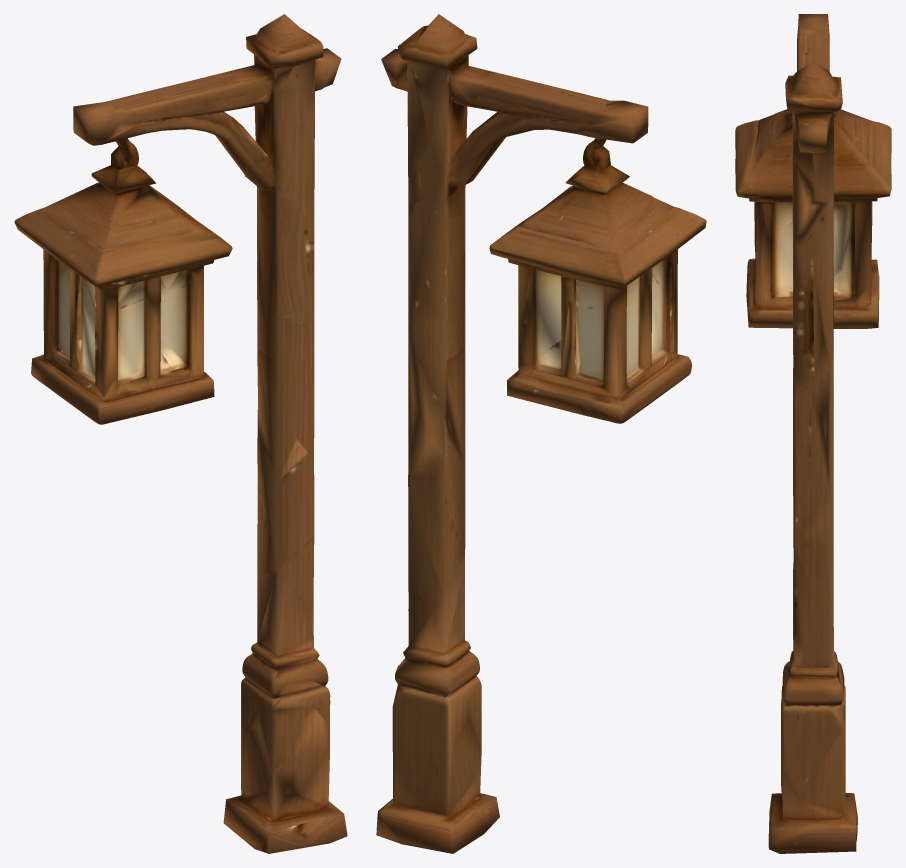
File: wood_lantern_post.glb
The picture shows the model from 3 angles, left to right: view 1: azimuth 30°, elevation 25°; view 2: azimuth 150°, elevation 25°; view 3: azimuth 270°, elevation 25°; orthographic projection. The views are drawn at different scales.
Parts seen in each view (by area): view 1: node_0; view 2: node_0; view 3: node_0.
Part boxes in pixels (x1,y1,x2,y2): node_0: [14, 14, 347, 853]; node_0: [376, 14, 706, 853]; node_0: [735, 14, 891, 853].
Bounding box in the file's own units: 0.4067 × 1.14 × 0.2086.
1 material, 1 textured.
